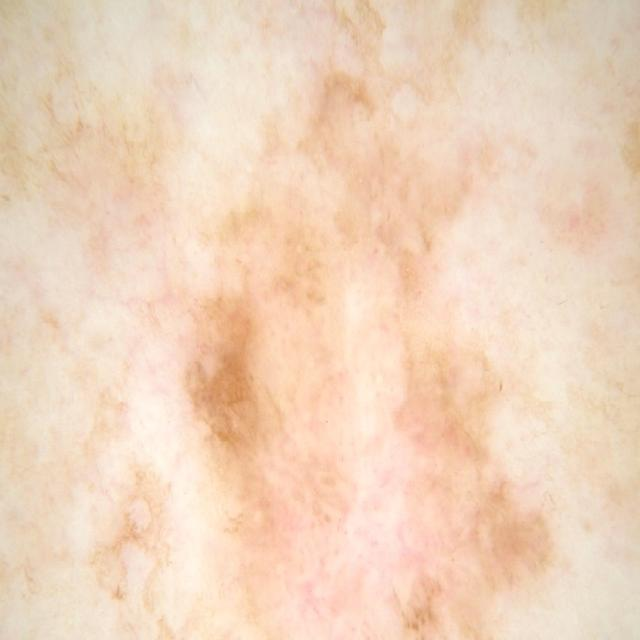Melanoma: (92, 94, 614, 640)
